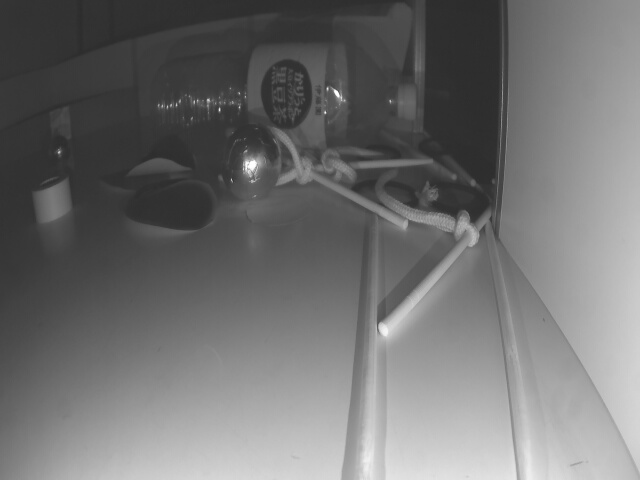Live: (224, 130, 281, 203), (47, 135, 72, 167)
Point: (0, 88, 131, 167)
